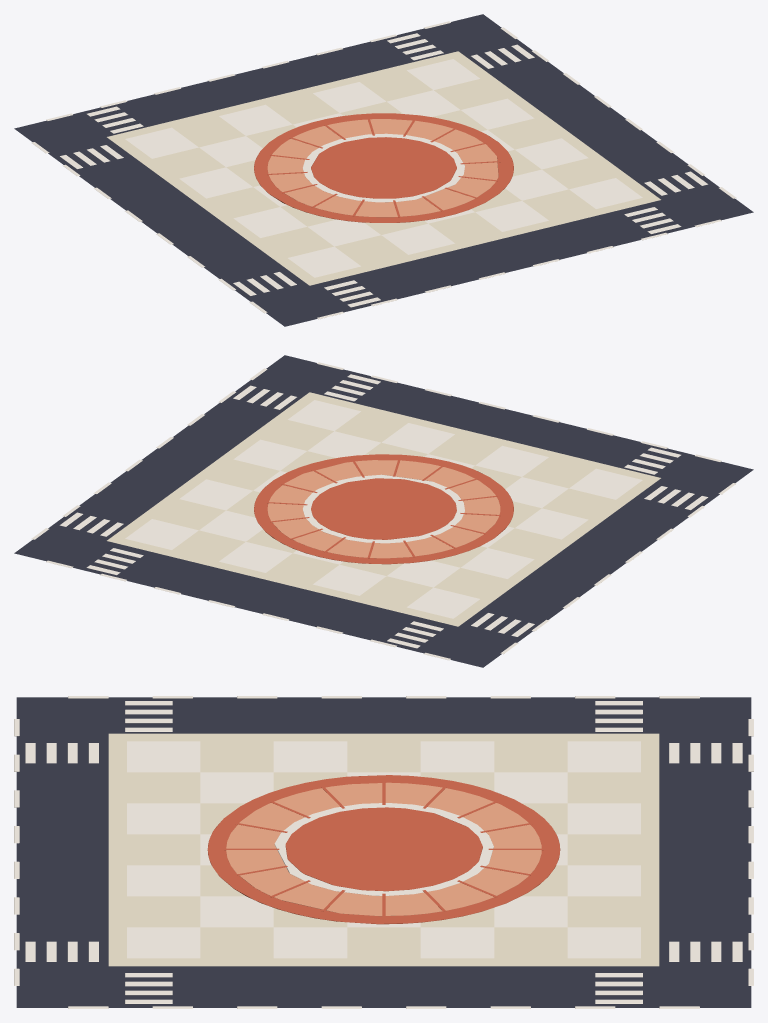
Rendered from tile_plaza.glb.
3 renders of one model, top to bottom at view 1: azimuth 30°, elevation 25°; view 2: azimuth 150°, elevation 25°; view 3: azimuth 270°, elevation 25°, orthographic. The views are drawn at different scales.
Visible parts, largest first — view 1: tile_plaza; view 2: tile_plaza; view 3: tile_plaza.
Part boxes in pixels (x1,y1,x2,y2): tile_plaza: [14, 14, 753, 326]; tile_plaza: [14, 355, 753, 667]; tile_plaza: [14, 696, 753, 1008].
Size of the model in its own units: 40.3 by 0.2017 by 40.3.
Materials: 1 (1 with a texture image).
